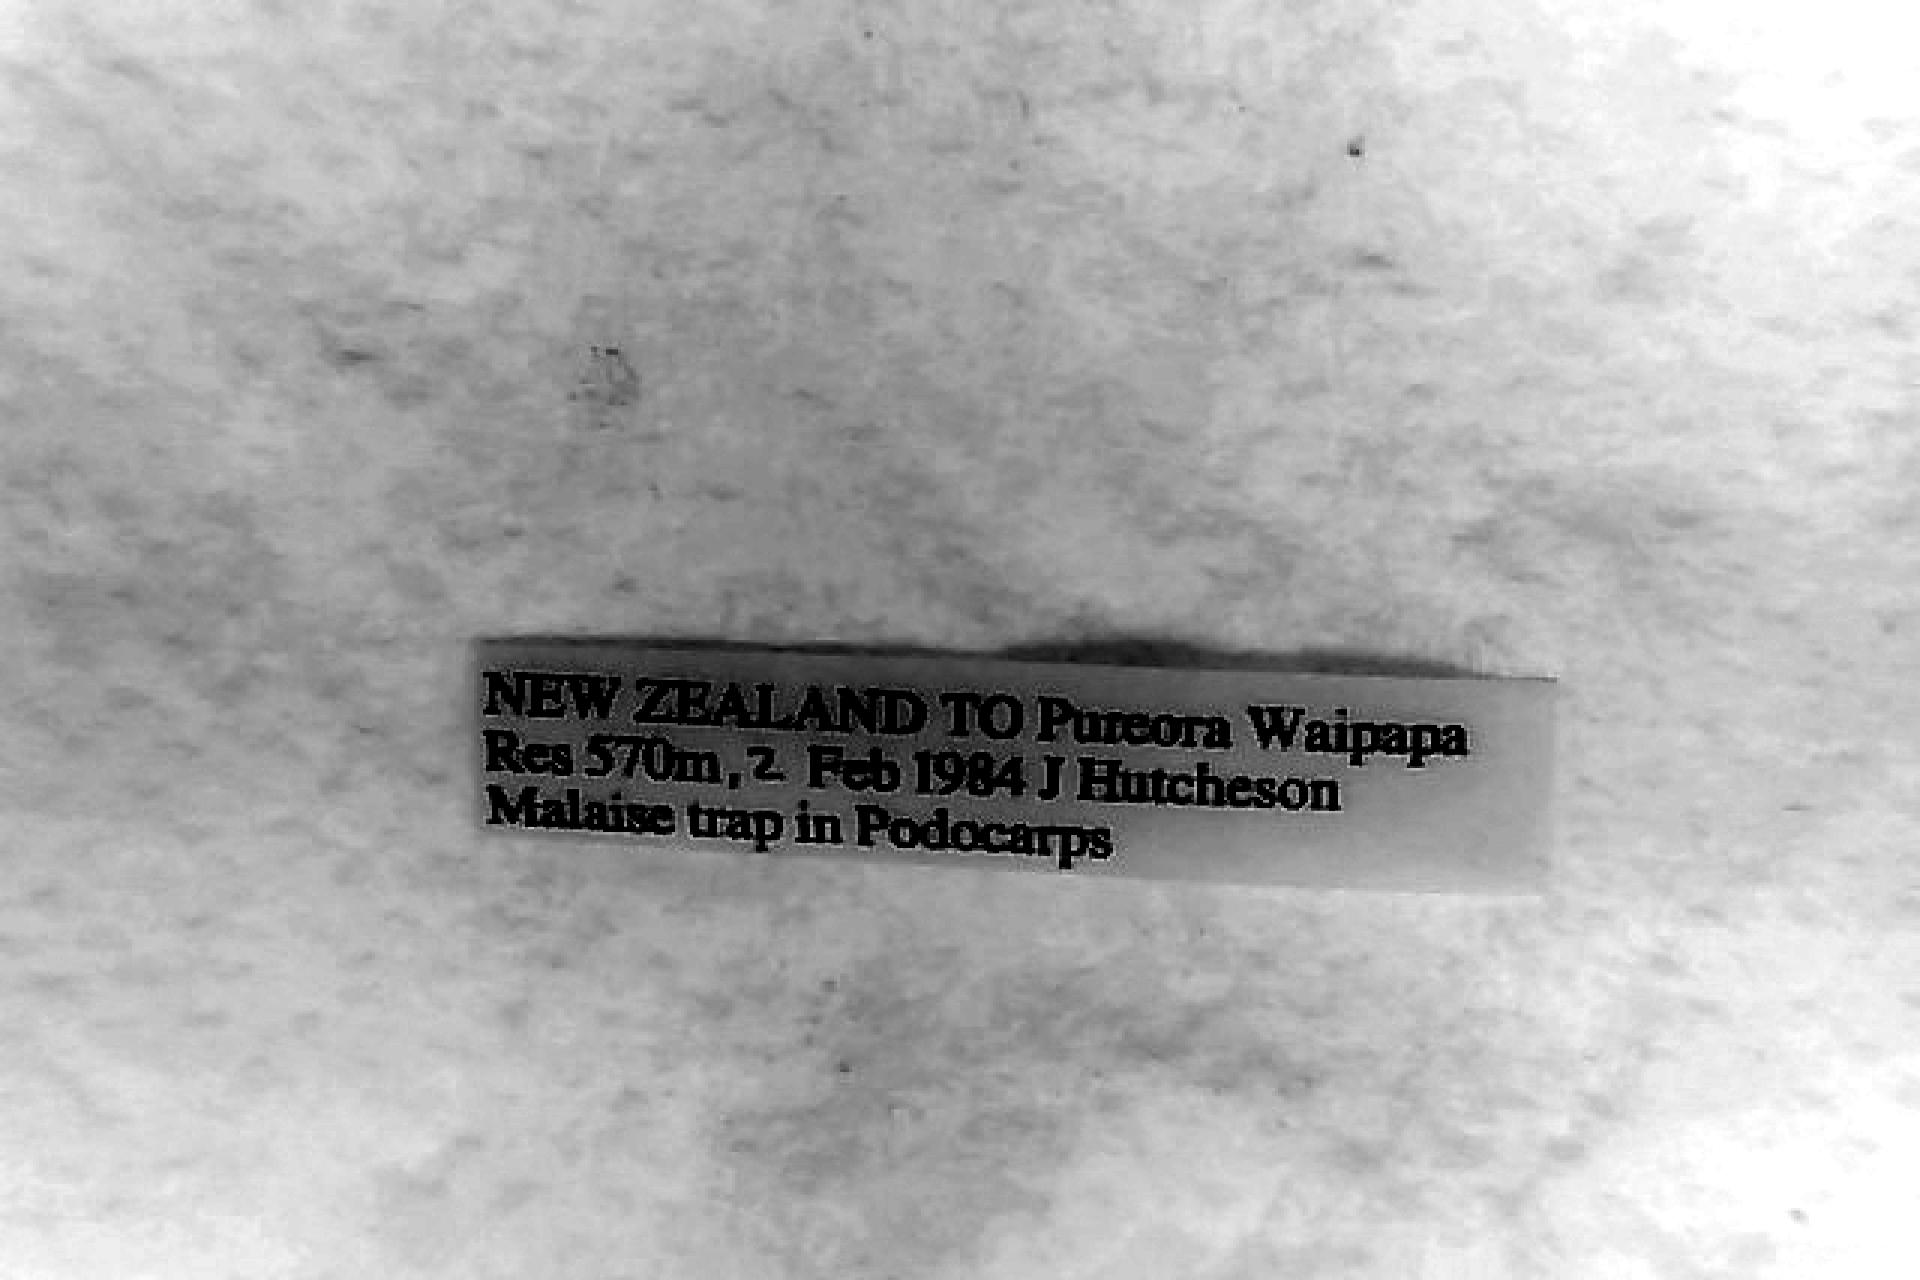typed_label: (476, 640, 1553, 886)
